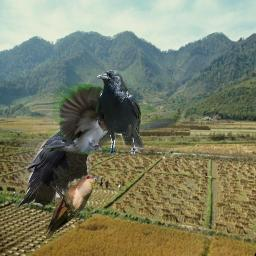Crow: (14, 112, 110, 211), (97, 70, 144, 154)
Cuckoo: (43, 174, 99, 240)
Swallow: (46, 84, 180, 155)
